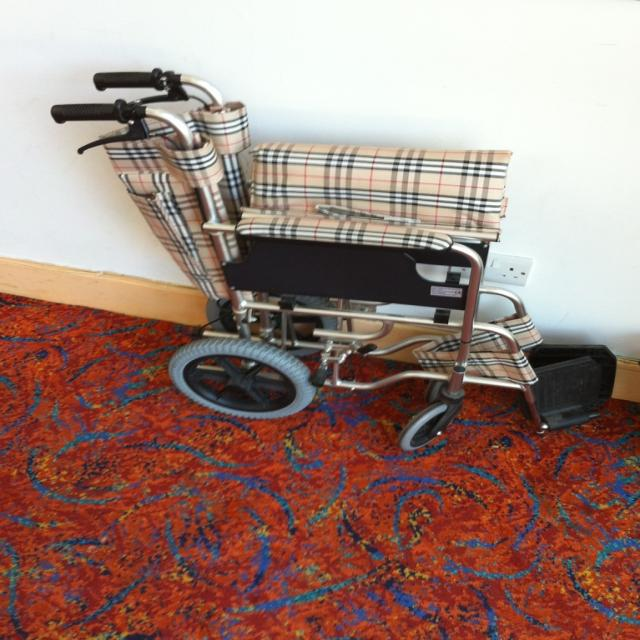wheelchairs: (48, 59, 616, 448)
